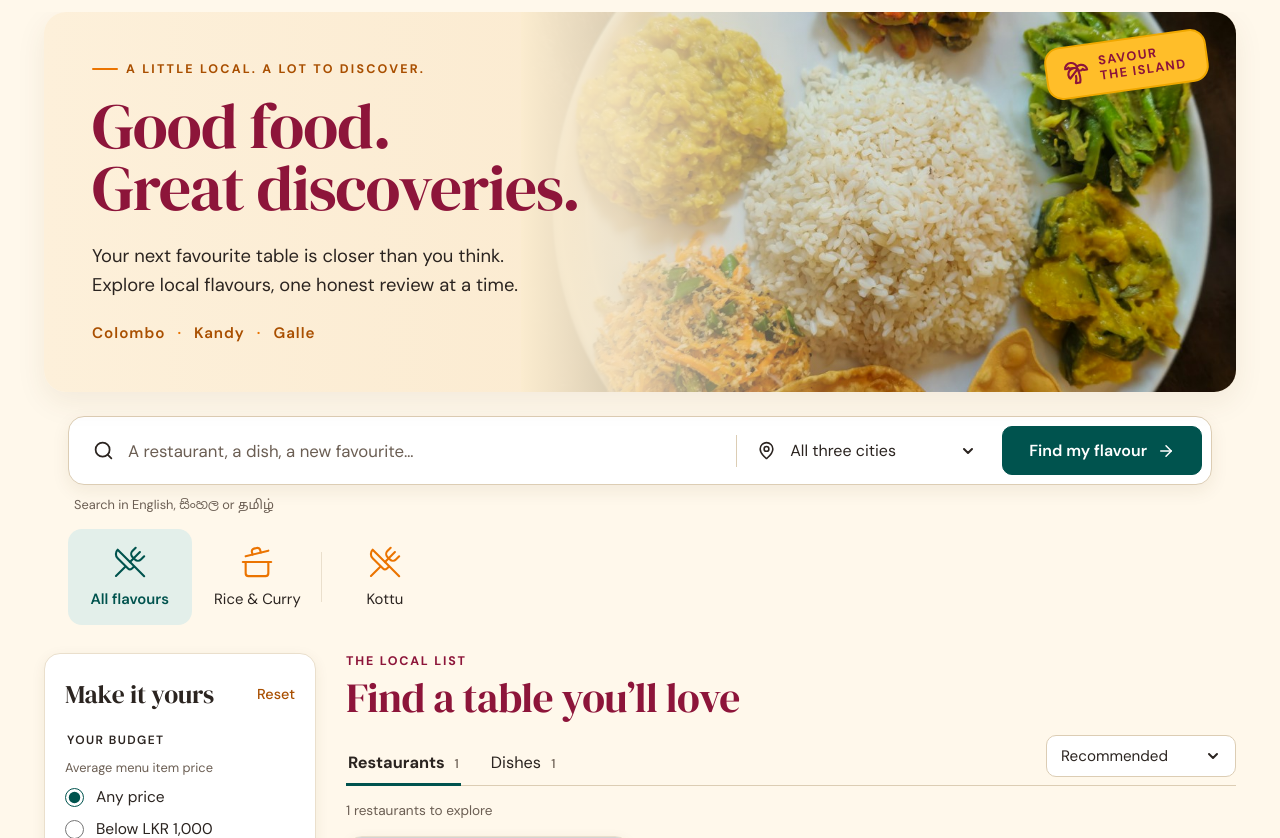
Test: Explore search and filters › sends the typed search term only when the search is submitted
Expected: the text "1 restaurants to explore" is shown, [346,802,492,819]
Type "kottu" into the field named "Search restaurants or dishes" at (422, 450), box [128,430,716,472]
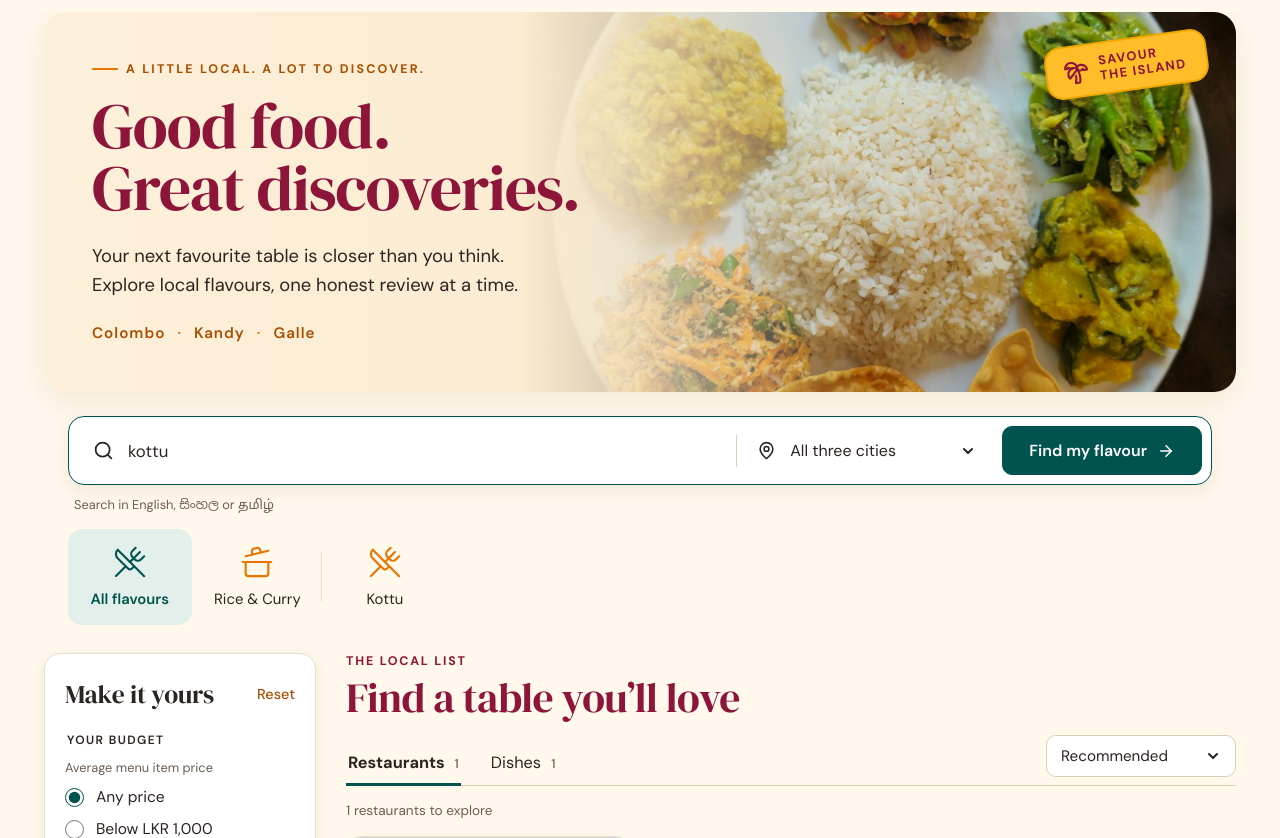
Click the button "Find my flavour" at (1102, 450), box [1002,426,1202,475]
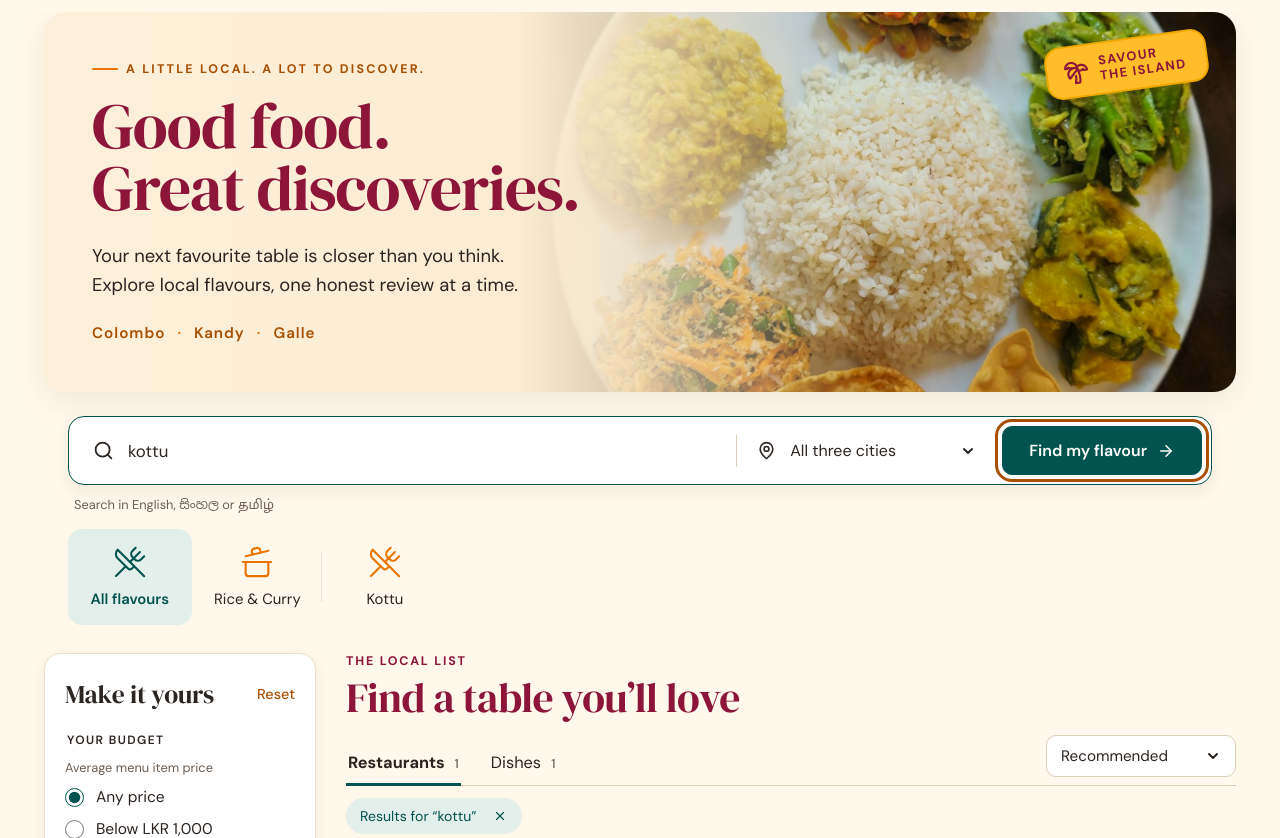
Expected: the text "Results for “kottu”" is shown, [346,798,522,834]
